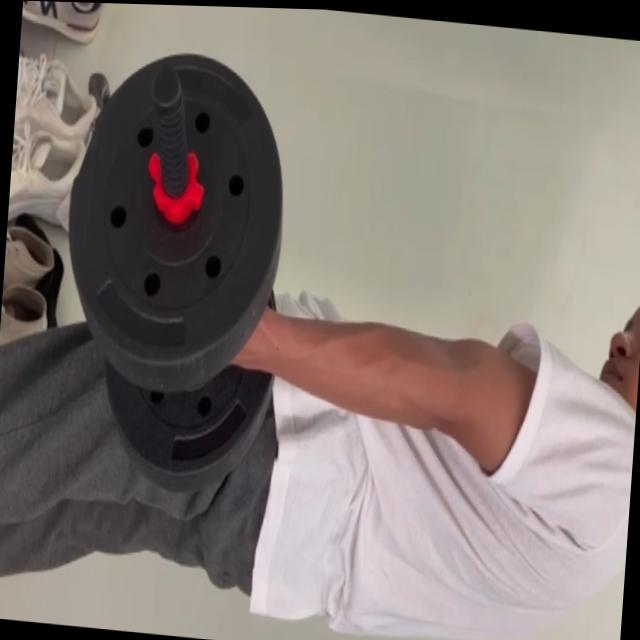dumbbell: (53, 40, 297, 511)
